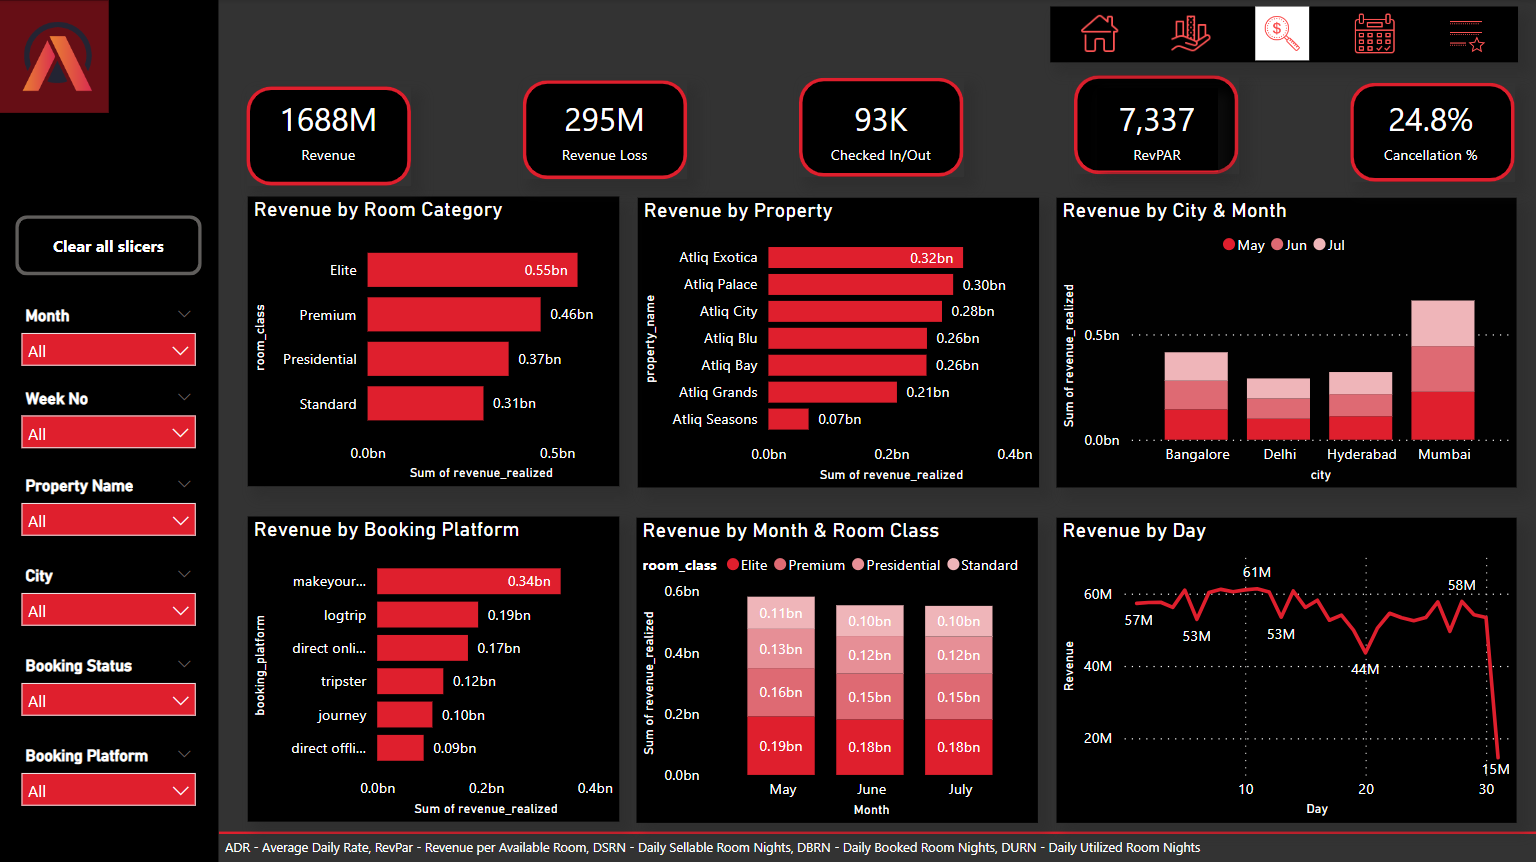

What the dashboard file says about the page in this screenshot:
{"tool":"powerbi","page":{"name":"Revenue Analysis","canvas":[1280,720],"ordinal":3},"visuals":[{"type":"shape","box":[0,0,182.5,717.5],"z":1000},{"type":"slicer","fields":{"Values":["dim_hotels.city"]},"box":[8.8,466.6,165.2,58.9],"z":3000},{"type":"slicer","fields":{"Values":["dim_hotels.property_name"]},"box":[8.8,392.1,165.2,58.9],"z":4000},{"type":"slicer","fields":{"Values":["fact_bookings.booking_platform"]},"box":[8.8,615.8,165.2,58.9],"z":6000},{"type":"slicer","fields":{"Values":["fact_bookings.booking_status"]},"box":[8.8,541.2,165.2,58.9],"z":8000},{"type":"slicer","fields":{"Values":["dim_date.mmm yy"]},"box":[8.8,250.7,165,60],"z":9000},{"type":"textbox","box":[182.5,690,1097.5,30],"z":10000},{"type":"shape","box":[182.5,683.8,1097.5,18.8],"z":11000},{"type":"barChart","title":"Revenue by Property","fields":{"Category":["dim_hotels.property_name"],"Y":["Sum(fact_bookings.revenue_realized)"]},"box":[530.6,165.7,333.3,241.1],"z":12000},{"type":"barChart","title":"Revenue by Room Category","fields":{"Category":["dim_rooms.room_class"],"Y":["Sum(fact_bookings.revenue_realized)"]},"box":[206.7,164.6,308.9,241.1],"z":13000},{"type":"barChart","title":"Revenue by Booking Platform","fields":{"Y":["Sum(fact_bookings.revenue_realized)"],"Category":["fact_bookings.booking_platform"]},"box":[206.2,430.4,308.8,253.8],"z":14000},{"type":"columnChart","title":"Revenue by Month & Room Class","fields":{"Category":["dim_date.mmm yy.Variation.Date Hierarchy.Month"],"Y":["Sum(fact_bookings.revenue_realized)"],"Series":["dim_rooms.room_class"]},"box":[530.1,430.8,333.8,253.8],"z":15000},{"type":"lineChart","fields":{"Category":["dim_date.date.Variation.Date Hierarchy.Day"],"Y":["Key_measures.Revenue"]},"box":[878.9,431.1,382.2,253.3],"z":16000},{"type":"columnChart","title":"Revenue by City & Month","fields":{"Category":["dim_hotels.city"],"Series":["dim_date.mmm yy"],"Y":["Sum(fact_bookings.revenue_realized)"]},"box":[878.9,165.1,382.2,241.1],"z":17000},{"type":"shape","box":[206.2,72.2,136.7,82.2],"z":18000},{"type":"card","fields":{"Values":["Key_measures.Revenue"]},"box":[223.3,73.3,101.1,70],"z":19000},{"type":"shape","box":[1122.9,69.9,136.7,82.2],"z":20000},{"type":"card","fields":{"Values":["Key_measures.Cancellation %"]},"box":[1140,73.3,101.1,70],"z":21000},{"type":"shape","box":[893.7,62.9,136.7,82.2],"z":22000},{"type":"card","fields":{"Values":["Key_measures.RevPAR"]},"box":[912.2,73.3,101.1,70],"z":23000},{"type":"shape","box":[664.6,65.2,136.7,82.2],"z":24000},{"type":"card","fields":{"Values":["Key_measures.Total Checked Out"]},"box":[682.2,73.3,101.1,70],"z":25000},{"type":"shape","box":[435.4,67.6,136.7,82.2],"z":26000},{"type":"card","fields":{"Values":["Key_measures.Revenue Loss"]},"box":[453.3,73.3,101.1,70],"z":27000},{"type":"image","title":"atliq","box":[0,1.2,91.2,93.8],"z":28000},{"type":"slicer","fields":{"Values":["dim_date.week no"]},"box":[8.8,318.8,165,60],"z":29000},{"type":"actionButton","box":[13.8,180,155,50],"z":30000},{"type":"shape","box":[873.5,5.9,388.7,46.2],"z":31000},{"type":"image","box":[892.3,5.9,45,45],"z":32000},{"type":"image","box":[968.5,6.2,45,45],"z":33000},{"type":"image","box":[1196.9,6.1,45,45],"z":34000},{"type":"image","box":[1120.8,6.4,45,45],"z":35000},{"type":"image","box":[1044.6,6.3,45,45],"z":36000}]}

Visuals, with their boxes in screenshot pixels (x1, y1, x2, y2), scaled from the page's 1280x720 canvas onto the 1536x862 screenshot:
shape: (0, 0, 219, 859)
slicer - dim_hotels.city: (11, 559, 209, 629)
slicer - dim_hotels.property_name: (11, 469, 209, 540)
slicer - fact_bookings.booking_platform: (11, 737, 209, 808)
slicer - fact_bookings.booking_status: (11, 648, 209, 718)
slicer - dim_date.mmm yy: (11, 300, 209, 372)
textbox: (219, 826, 1535, 861)
shape: (219, 819, 1535, 841)
"Revenue by Property" barChart: (637, 198, 1037, 487)
"Revenue by Room Category" barChart: (248, 197, 619, 486)
"Revenue by Booking Platform" barChart: (247, 515, 618, 819)
"Revenue by Month & Room Class" columnChart: (636, 516, 1037, 820)
lineChart - dim_date.date.Variation.Date Hierarchy.Day x Key_measures.Revenue: (1055, 516, 1513, 819)
"Revenue by City & Month" columnChart: (1055, 198, 1513, 486)
shape: (247, 86, 411, 185)
card - Key_measures.Revenue: (268, 88, 389, 172)
shape: (1347, 84, 1512, 182)
card - Key_measures.Cancellation %: (1368, 88, 1489, 172)
shape: (1072, 75, 1236, 174)
card - Key_measures.RevPAR: (1095, 88, 1216, 172)
shape: (798, 78, 962, 176)
card - Key_measures.Total Checked Out: (819, 88, 940, 172)
shape: (522, 81, 687, 179)
card - Key_measures.Revenue Loss: (544, 88, 665, 172)
"atliq" image: (0, 1, 109, 114)
slicer - dim_date.week no: (11, 382, 209, 454)
actionButton: (17, 216, 203, 275)
shape: (1048, 7, 1515, 62)
image: (1071, 7, 1125, 61)
image: (1162, 7, 1216, 61)
image: (1436, 7, 1490, 61)
image: (1345, 8, 1399, 62)
image: (1254, 8, 1308, 61)
